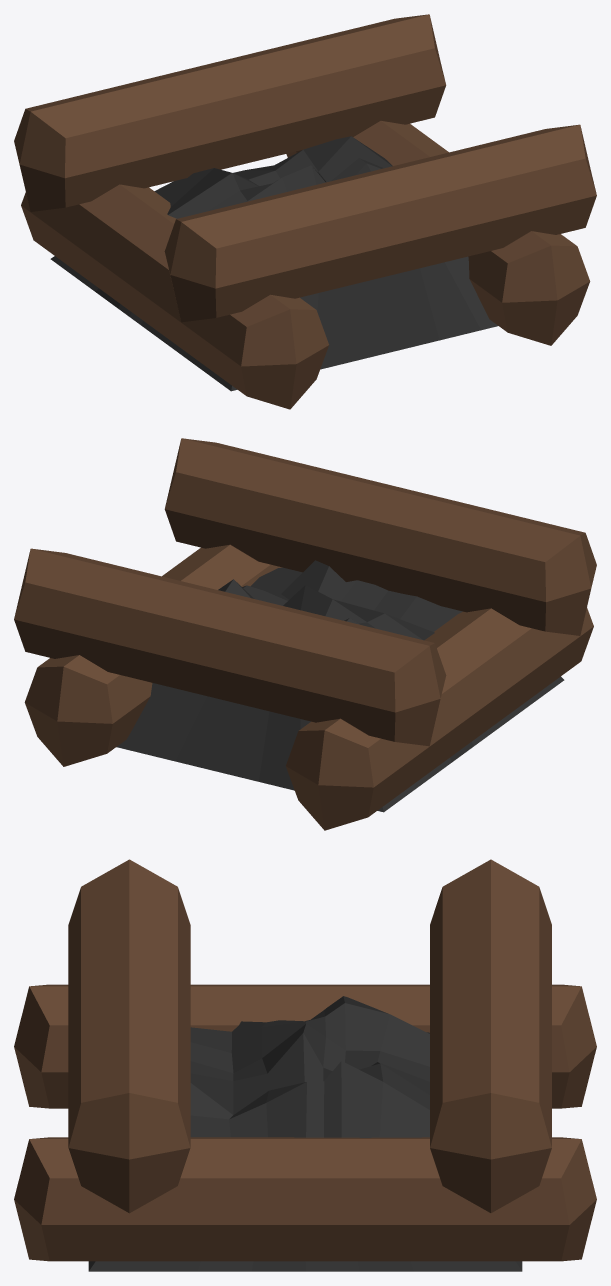
Rendered from campfire.glb.
3 renders of one model, top to bottom at view 1: azimuth 30°, elevation 25°; view 2: azimuth 150°, elevation 25°; view 3: azimuth 270°, elevation 25°, orthographic. The views are drawn at different scales.
Visible parts, largest first — view 1: Cube.002, Cube.001, Cube; view 2: Cube.002, Cube.001, Cube; view 3: Cube.002, Cube.001, Cube.
Boxes of the visible parts, x1,y1,x2,y2 form: Cube.002: (14,14,596,322); Cube.001: (21,121,590,409); Cube: (50,136,497,391); Cube.002: (14,438,596,746); Cube.001: (24,544,593,830); Cube: (116,560,564,812); Cube.002: (68,859,551,1213); Cube.001: (14,984,596,1261); Cube: (88,996,522,1271).
Bounding box in the file's own units: 3.43 × 1.35 × 3.43.
